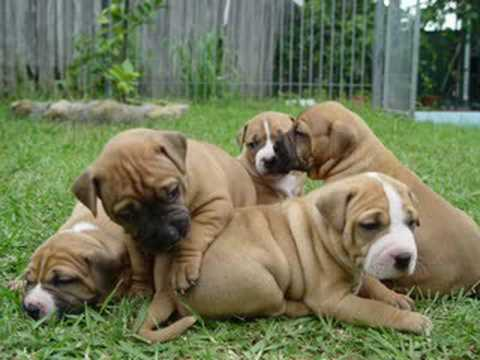am_pit_bull_terrier: (137, 170, 434, 343), (276, 100, 479, 298), (71, 127, 257, 300), (9, 192, 134, 326), (231, 110, 306, 205)
